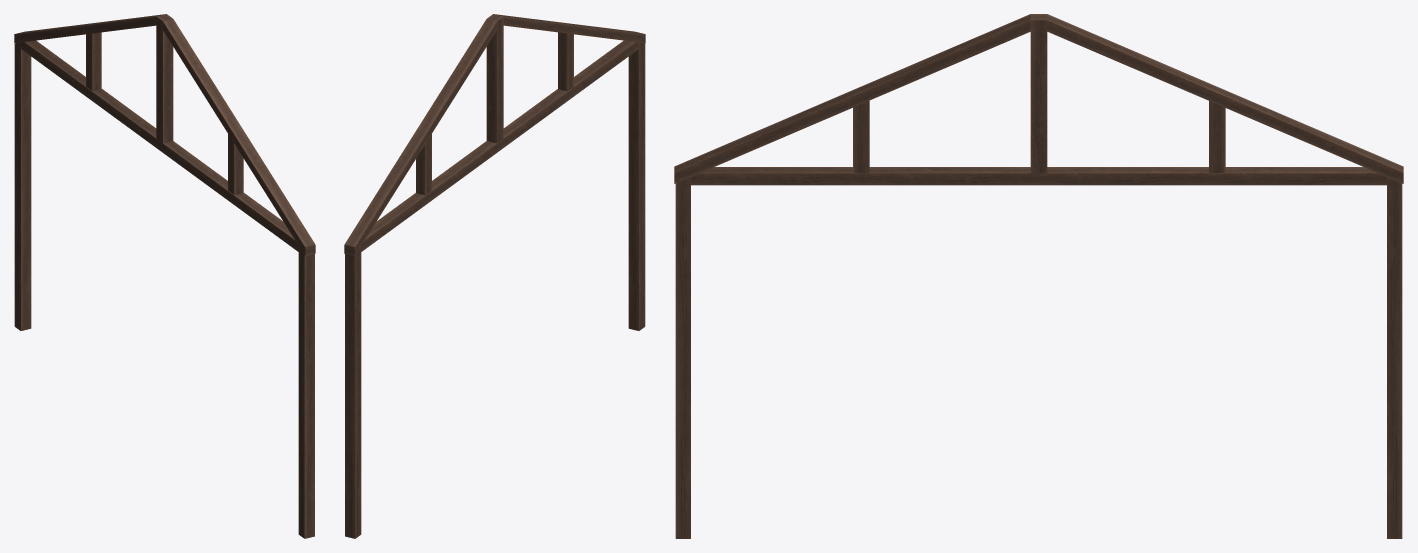
Rendered from yane_frame_4t_1f_3.fbx.
The picture shows the model from 3 angles, left to right: view 1: azimuth 30°, elevation 25°; view 2: azimuth 150°, elevation 25°; view 3: azimuth 270°, elevation 25°; orthographic projection. The views are drawn at different scales.
Visible parts, largest first — view 1: yane_frame_4t_1f_3; view 2: yane_frame_4t_1f_3; view 3: yane_frame_4t_1f_3.
Boxes of the visible parts, <box> form: yane_frame_4t_1f_3: <box>14,14,315,538</box>; yane_frame_4t_1f_3: <box>344,14,645,538</box>; yane_frame_4t_1f_3: <box>674,14,1403,538</box>.
Bounding box in the file's own units: 18.5 × 708 × 902.
